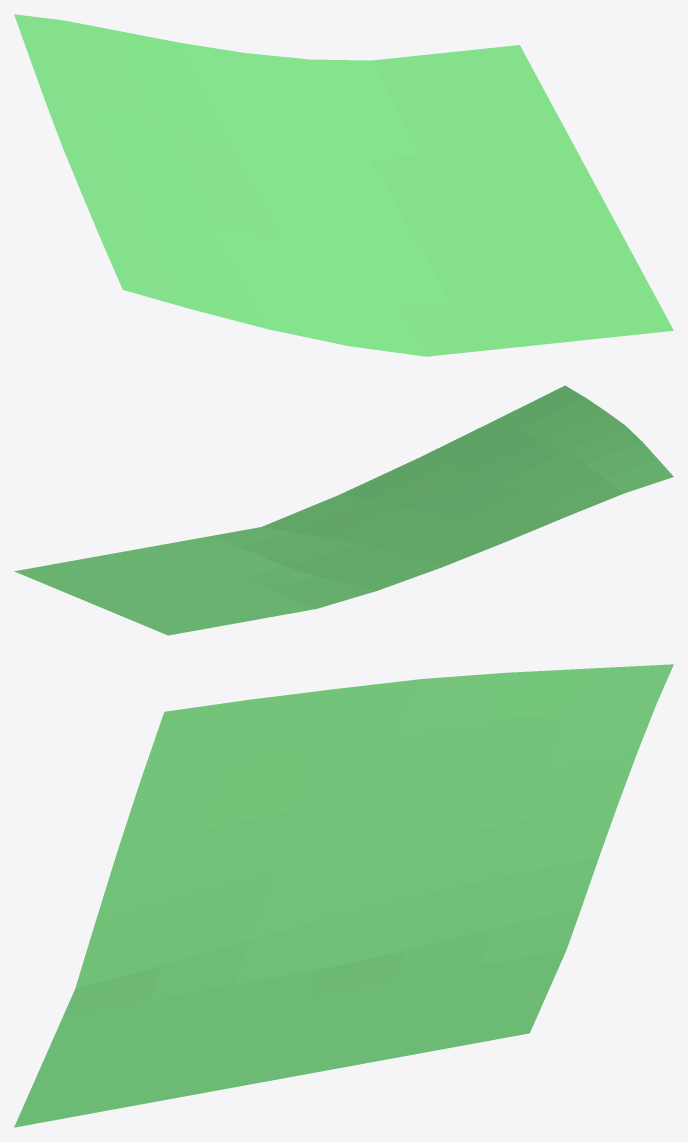
File: money.glb
3 views of the same model, one above another, from view 1: azimuth 30°, elevation 25°; view 2: azimuth 210°, elevation 25°; view 3: azimuth 270°, elevation 25° (orthographic). The views are drawn at different scales.
Parts seen in each view (by area): view 1: Plane 02; view 2: Plane 02; view 3: Plane 02.
Part boxes in pixels (x1,y1,x2,y2): Plane 02: (14,14,673,356); Plane 02: (14,385,673,635); Plane 02: (14,664,673,1127).
Size of the model in its own units: 2.8 by 0.9963 by 2.45.
